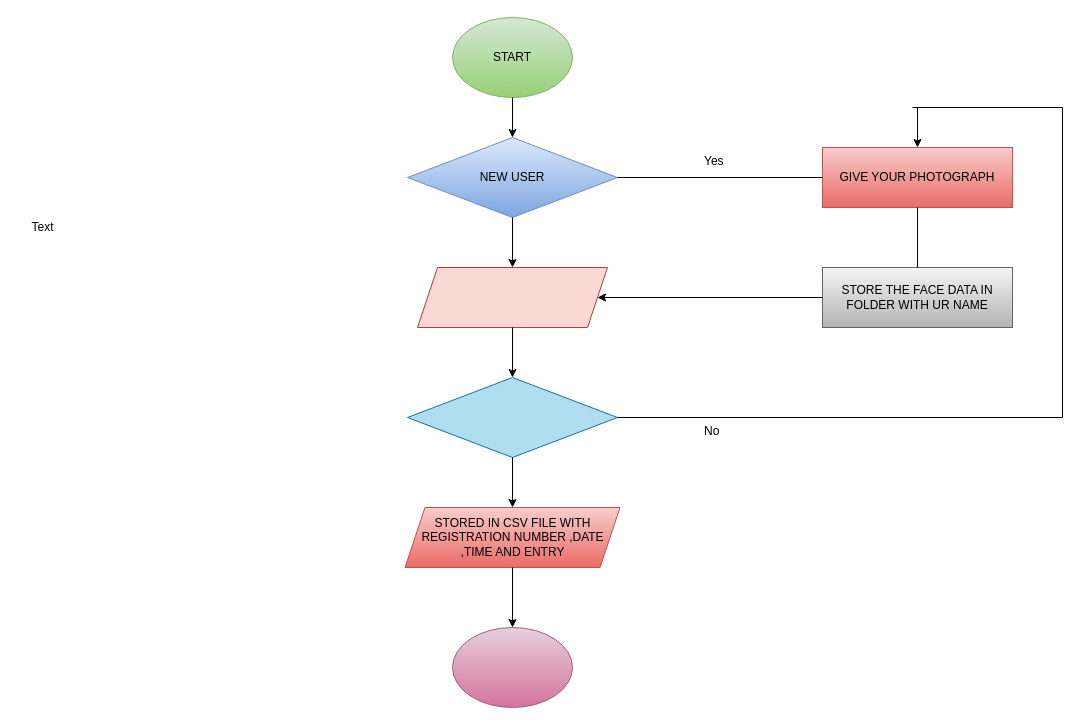
Image size: 1081x725. Some labels were removed from this diagram. Here are the shapes that lost their labels. From the top down, the centre of each, then its label:
At (x=512, y=297): "RECOGNITION THE FACE".
At (x=512, y=417): "FACED RECOGNIZED".
At (x=512, y=667): "END".
